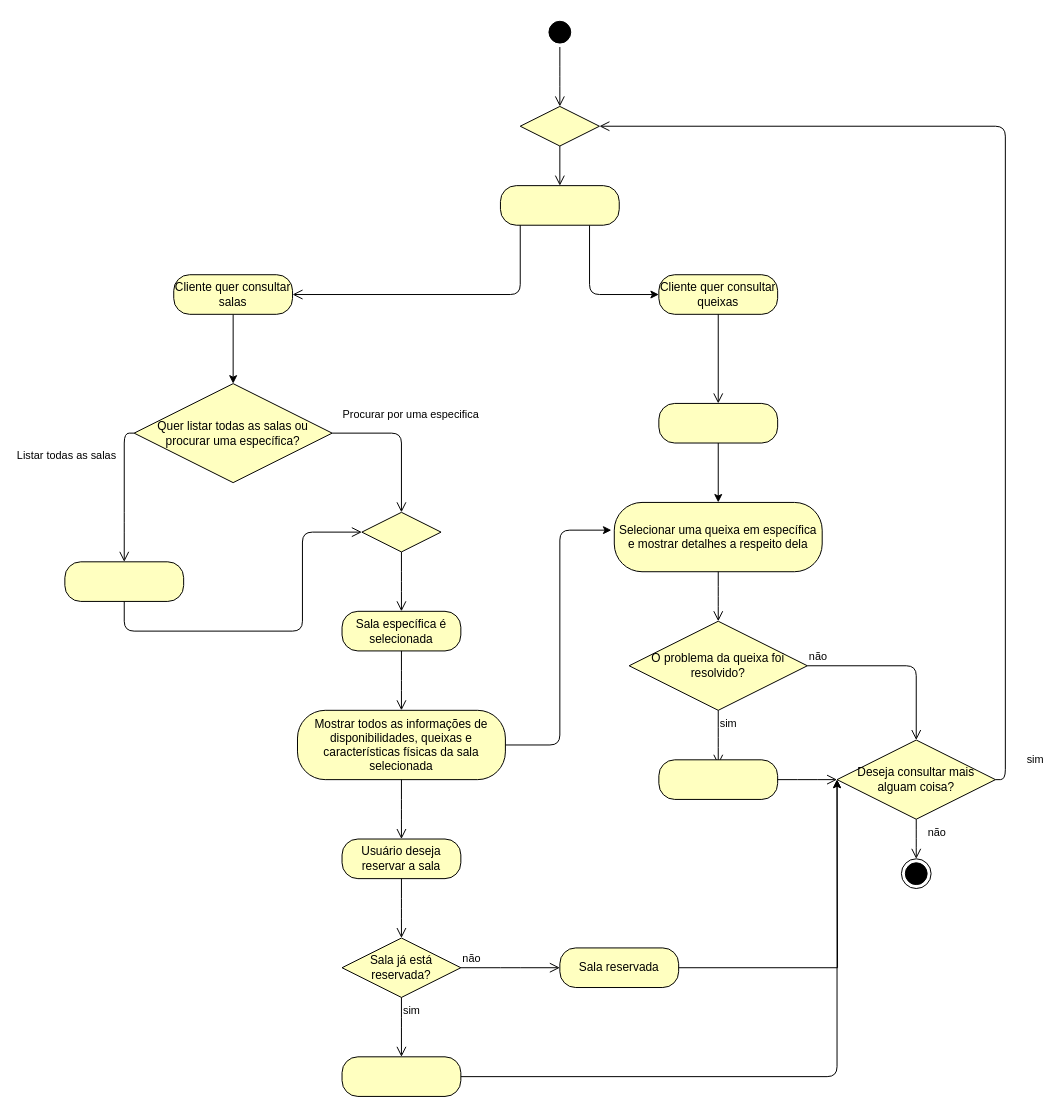
Some shapes in this 1060 by 1114 pixel diagram are drawn without their labels. The centre of each missing label's shape, as x and y in pixels:
"Listar todas as queixas" belongs at (x=718, y=422).
"Login Realizado" belongs at (x=559, y=205).
"Marca queixa como resolvida" belongs at (x=718, y=779).
"Sala não é reservada" belongs at (x=401, y=1076).
"Todas as salas listadas" belongs at (x=124, y=581).
